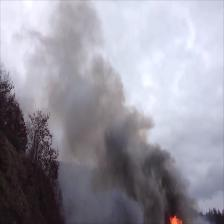fire: (169, 218, 180, 224)
smoke: (74, 97, 132, 162), (124, 166, 182, 206)
